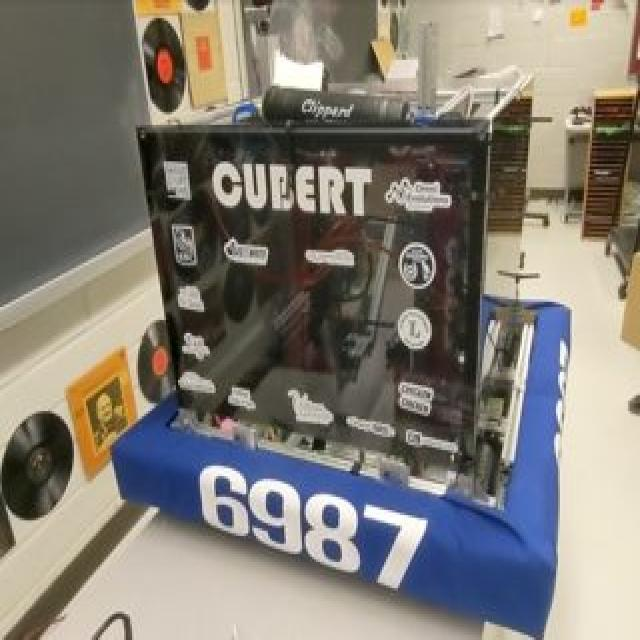robot: (96, 76, 615, 639)
